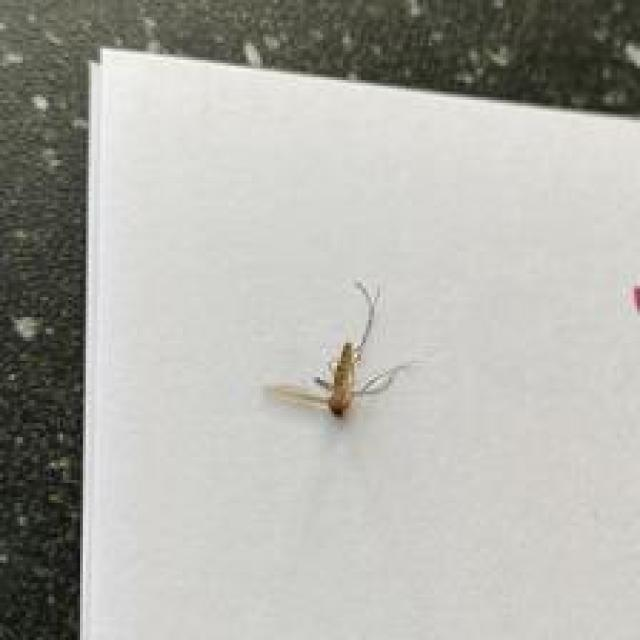Culex: (270, 277, 413, 423)
